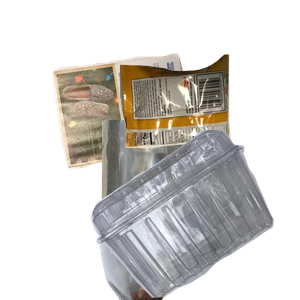glass: (96, 120, 283, 300)
paper: (49, 51, 235, 212)
plastic: (88, 130, 300, 300)
trash: (117, 52, 300, 193)
